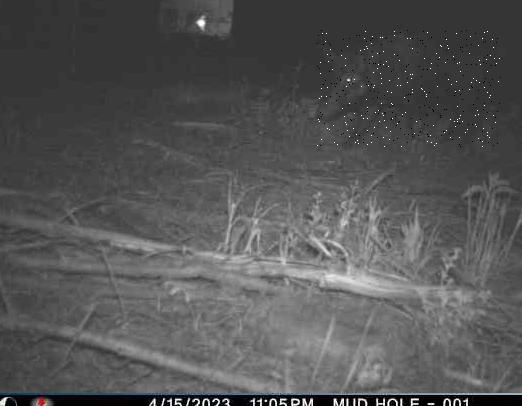Hog: (317, 31, 501, 148)
